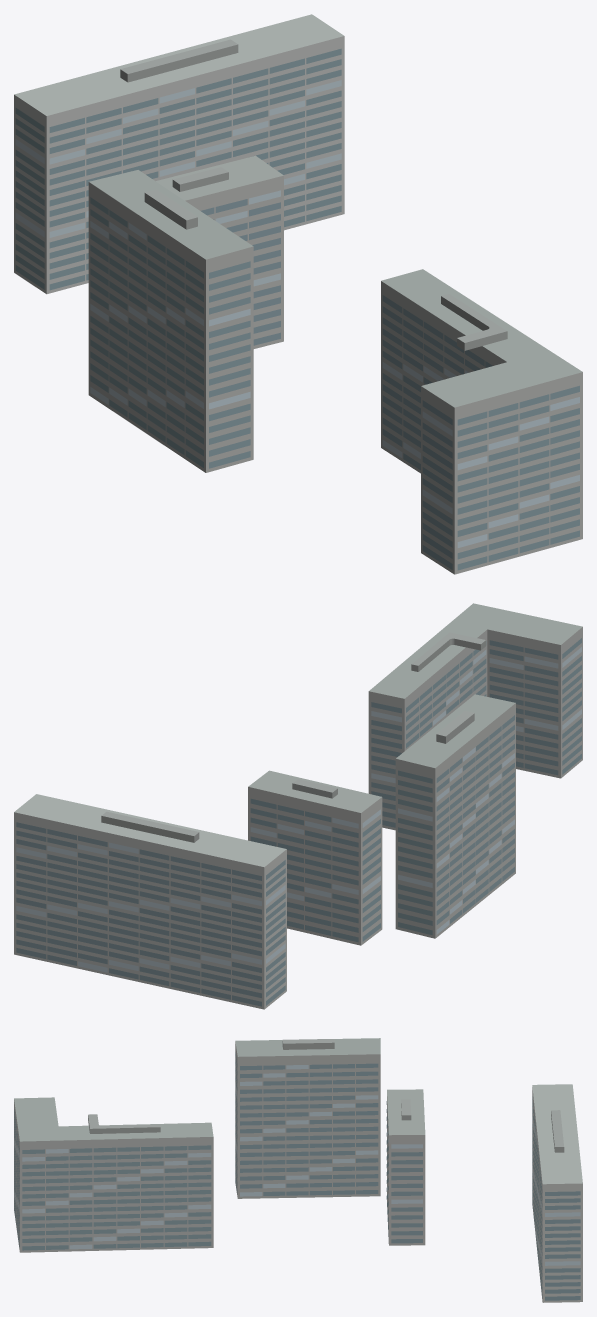
Rendered from apt-a15205103.glb.
3 renders of one model, top to bottom at view 1: azimuth 30°, elevation 25°; view 2: azimuth 150°, elevation 25°; view 3: azimuth 270°, elevation 25°, orthographic. The views are drawn at different scales.
Parts seen in each view (by area): view 1: apt-a15205103; view 2: apt-a15205103; view 3: apt-a15205103.
Boxes of the visible parts, x1,y1,x2,y2 form: apt-a15205103: (14,14,582,574); apt-a15205103: (14,603,582,1009); apt-a15205103: (14,1038,582,1302).
Size of the model in its own units: 102 by 57.3 by 199.
